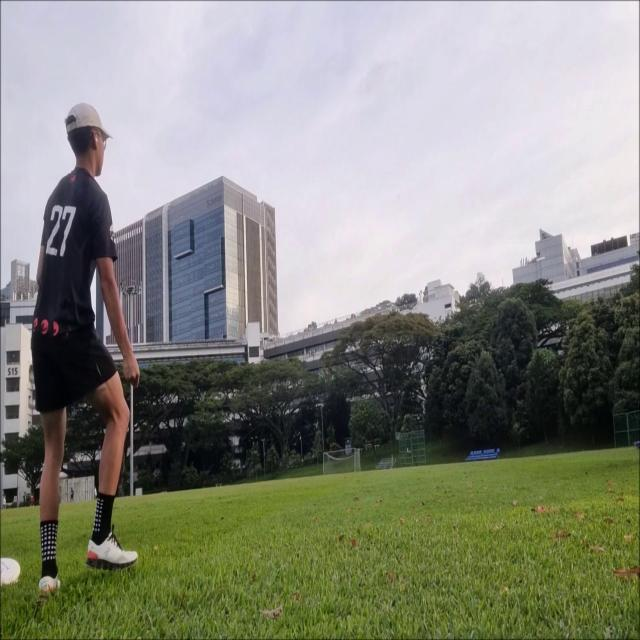disc: (536, 255, 546, 262)
